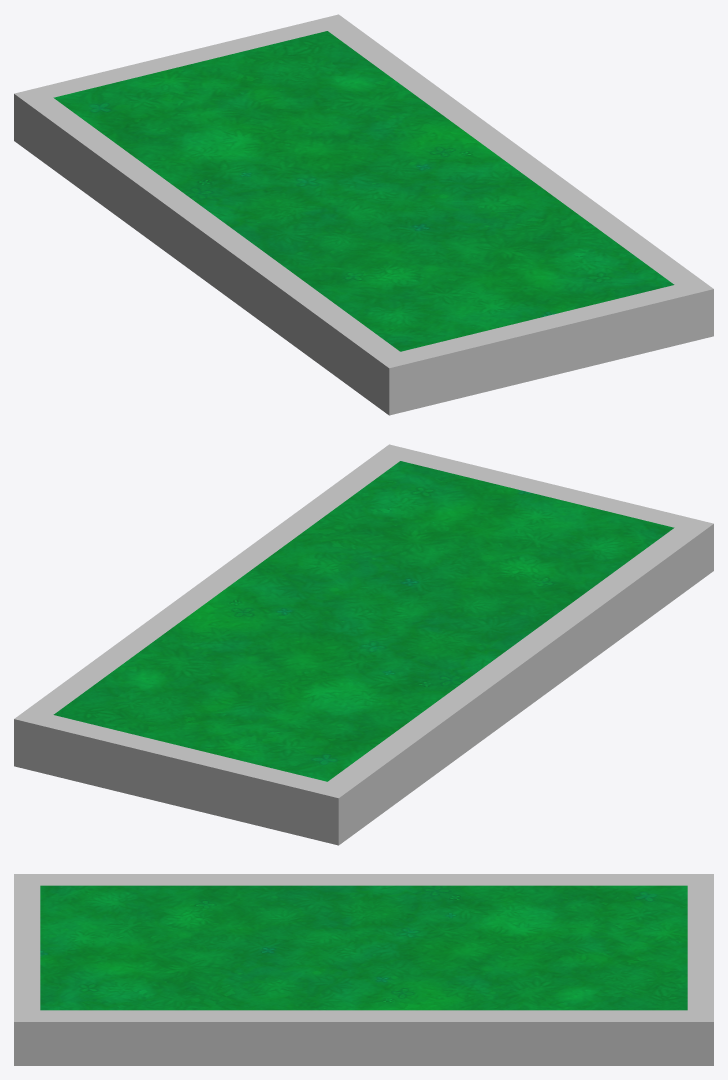
The model's file is Plant01_b05.FBX.
3 renders of one model, top to bottom at view 1: azimuth 30°, elevation 25°; view 2: azimuth 150°, elevation 25°; view 3: azimuth 270°, elevation 25°, orthographic. The views are drawn at different scales.
Parts seen in each view (by area): view 1: Plant01_b05; view 2: Plant01_b05; view 3: Plant01_b05.
Part boxes in pixels (<box>): Plant01_b05: <box>14,14,713,415</box>; Plant01_b05: <box>14,444,713,845</box>; Plant01_b05: <box>14,874,713,1065</box>.
Bounding box in the file's own units: 339 × 47.09 × 678.
